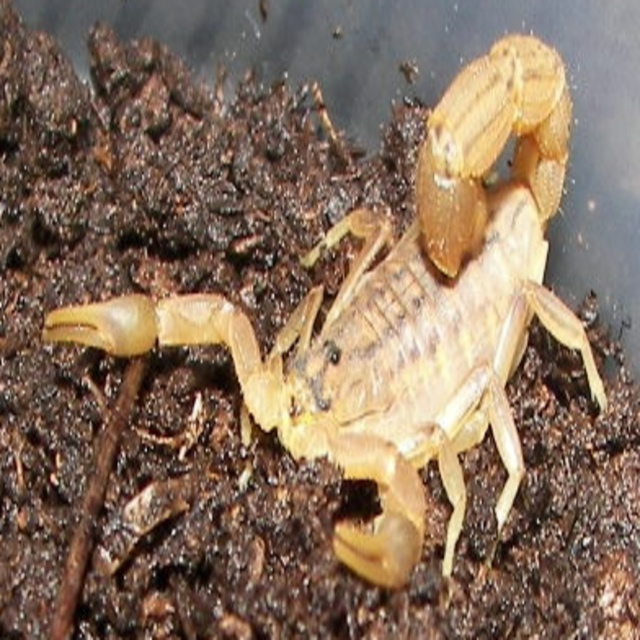Scorpion: (42, 28, 606, 585)
